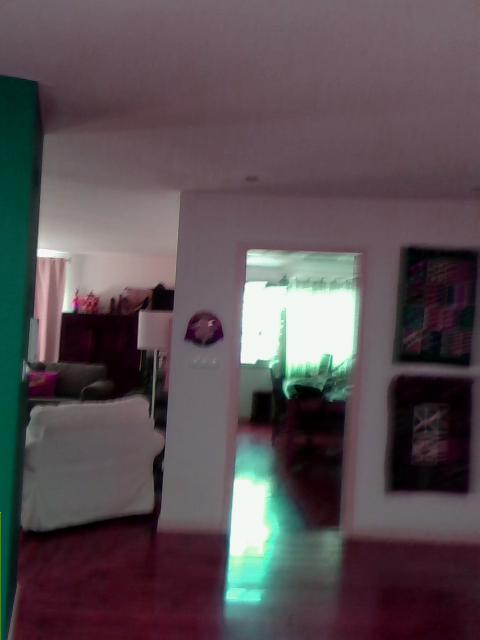open_door: (223, 238, 367, 541)
